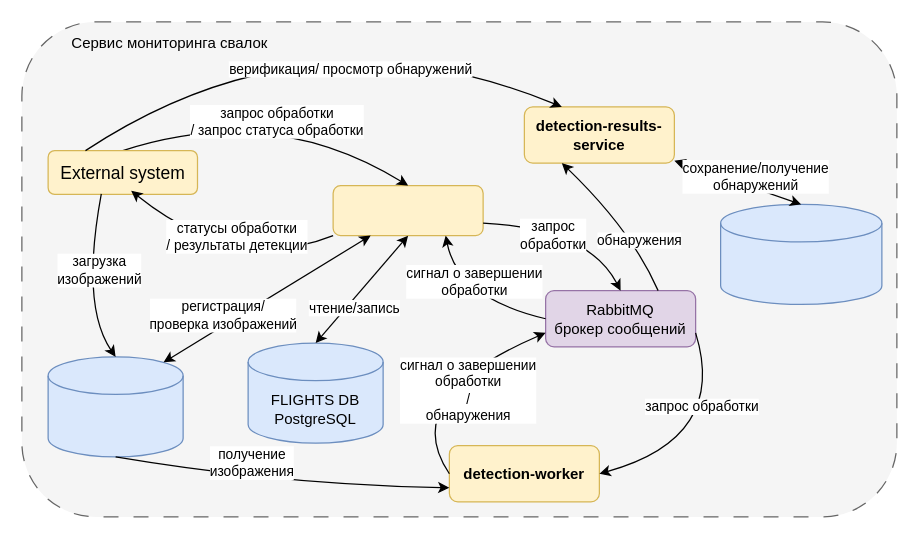
This 919x539 diagram has some shape labels left out. Each missing label, with the centre of its shape:
DetectionResults DB PostgreSQL: the point at 800,253
flight-service: the point at 407,210
Media Storage MiniO: the point at 115,406
